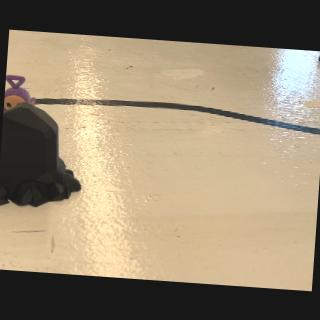teletubby: (3, 74, 36, 111), (3, 75, 35, 111)
